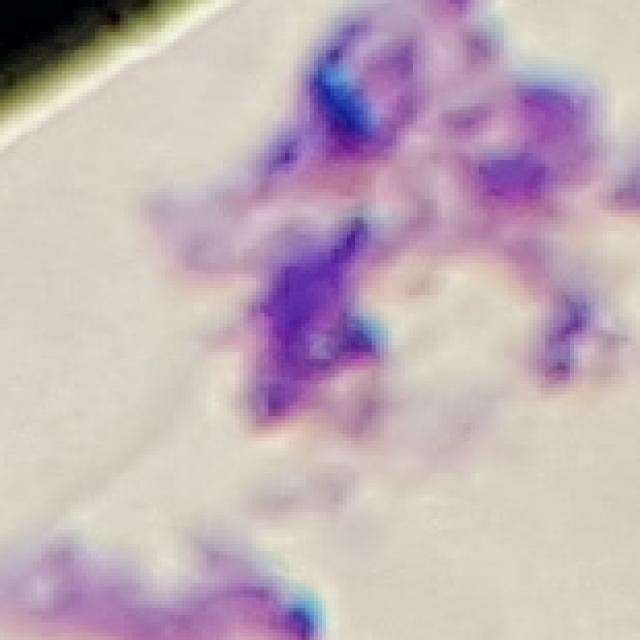non-sperm: (224, 206, 393, 432)
